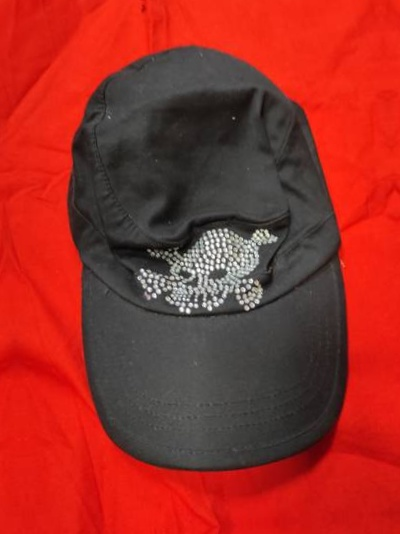Hat: (32, 0, 393, 495)
